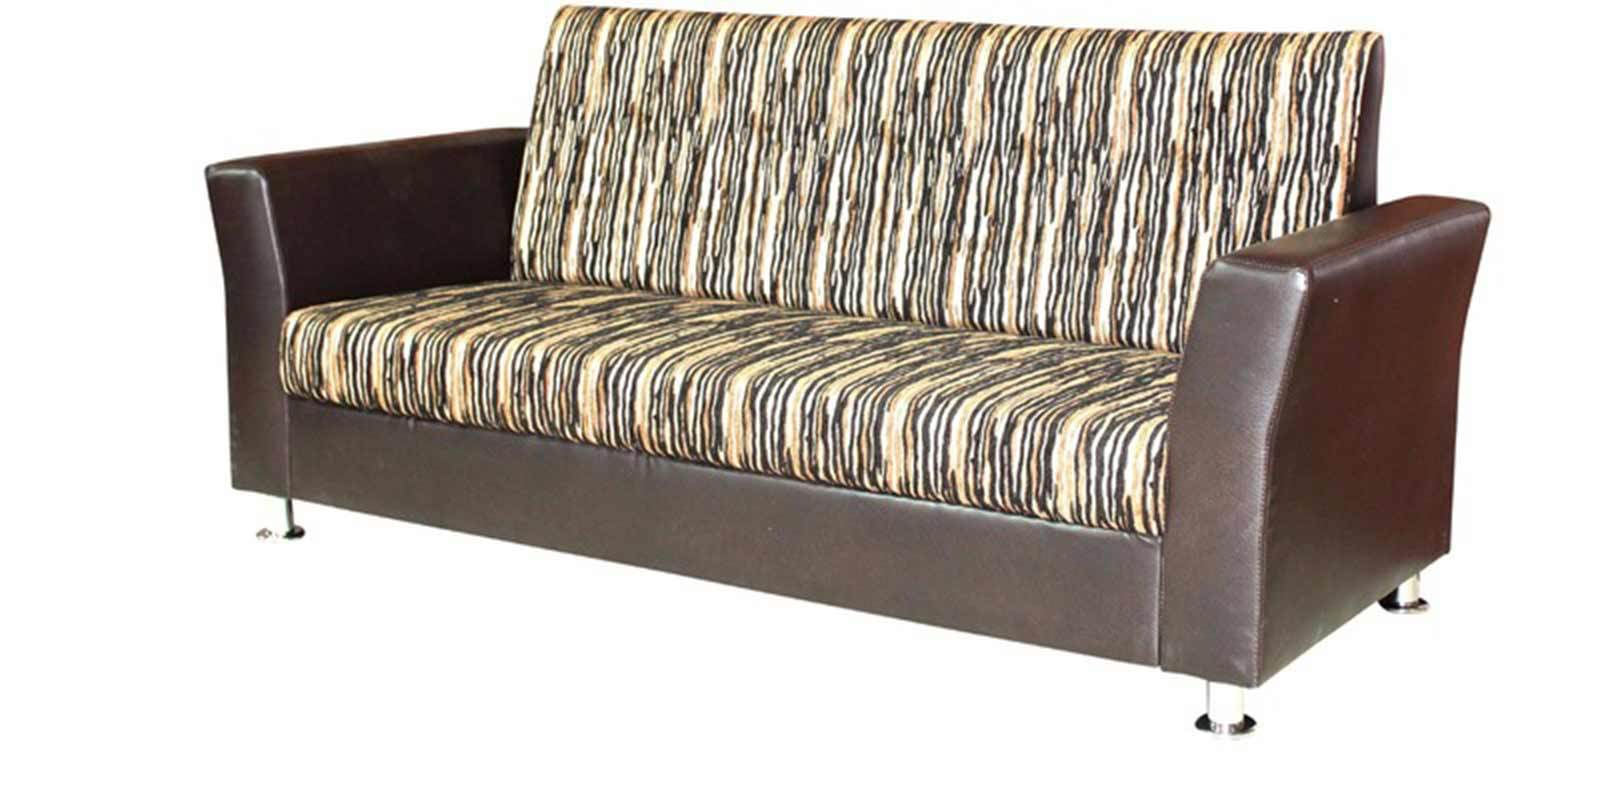Eartigo Three Seater Sofa in Brown Colour by Crystal Furnitech: (108, 3, 1553, 797)
